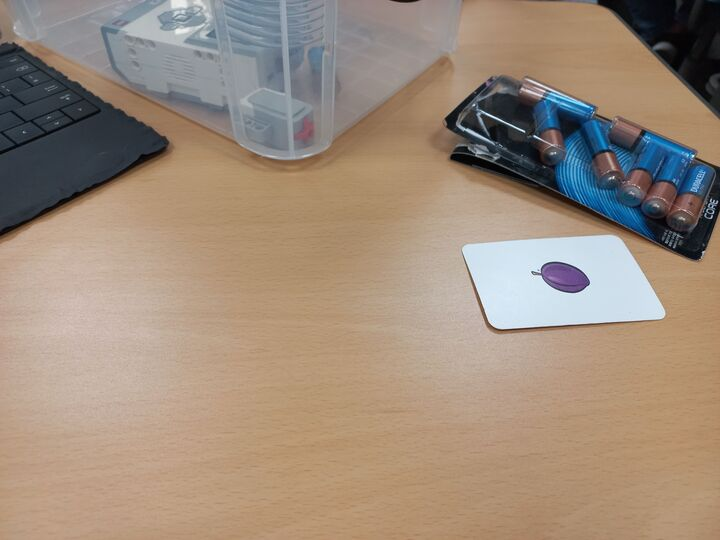plum1: (457, 234, 668, 332)
